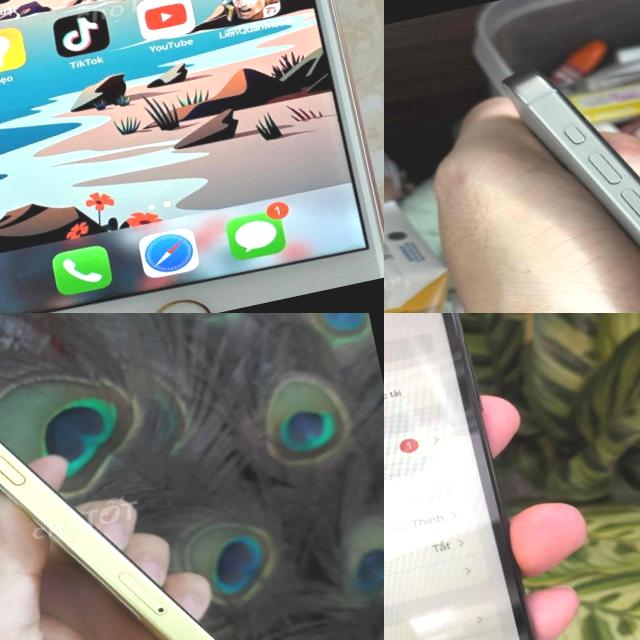gen_11: (384, 313, 585, 640)
gen_14: (0, 313, 303, 640)
gen_15: (498, 8, 640, 313)
gen_7_8: (0, 0, 384, 313)
